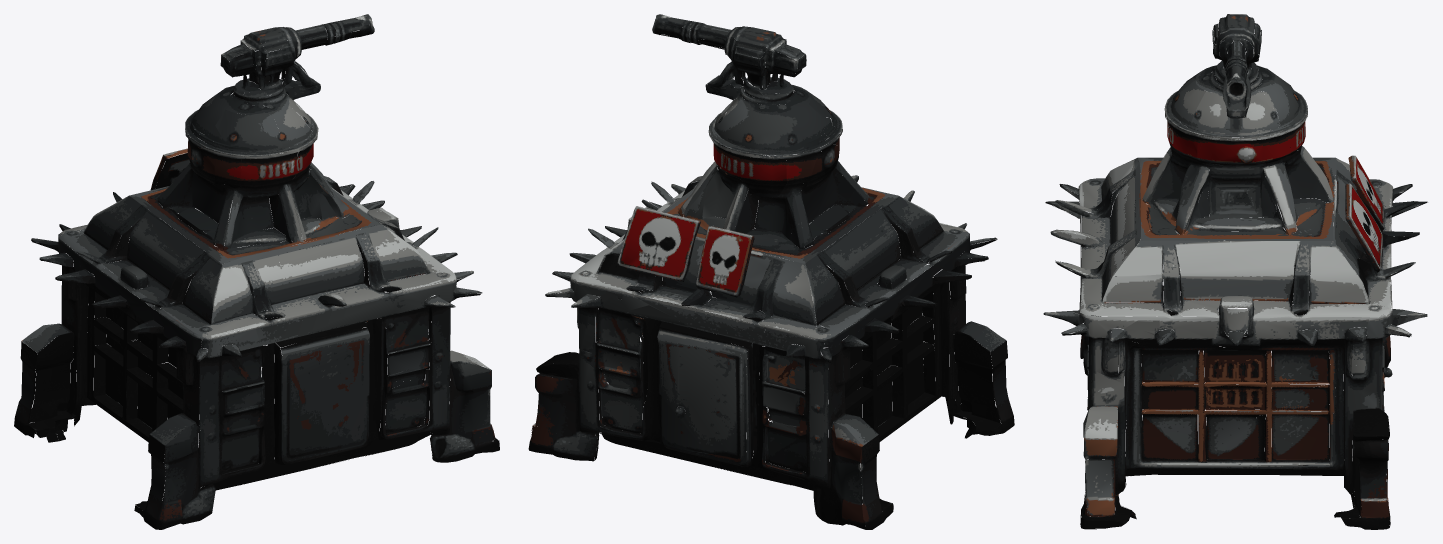
The model's file is elite.glb.
The picture shows the model from 3 angles, left to right: view 1: azimuth 30°, elevation 25°; view 2: azimuth 150°, elevation 25°; view 3: azimuth 270°, elevation 25°; orthographic projection. The views are drawn at different scales.
Visible parts, largest first — view 1: elite; view 2: elite; view 3: elite.
Boxes of the visible parts, bbox=[...] form: elite: bbox=[14, 14, 499, 529]; elite: bbox=[528, 14, 1014, 529]; elite: bbox=[1043, 14, 1427, 529].
Bounding box in the file's own units: 2.6 × 2.91 × 2.36.
1 material, 1 textured.
